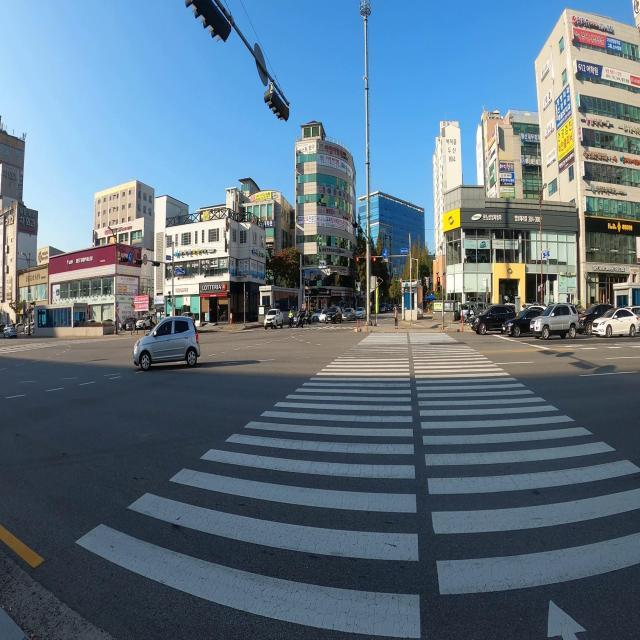crosswalk: (73, 332, 640, 640), (0, 337, 134, 355), (233, 326, 359, 332), (367, 313, 404, 316)
